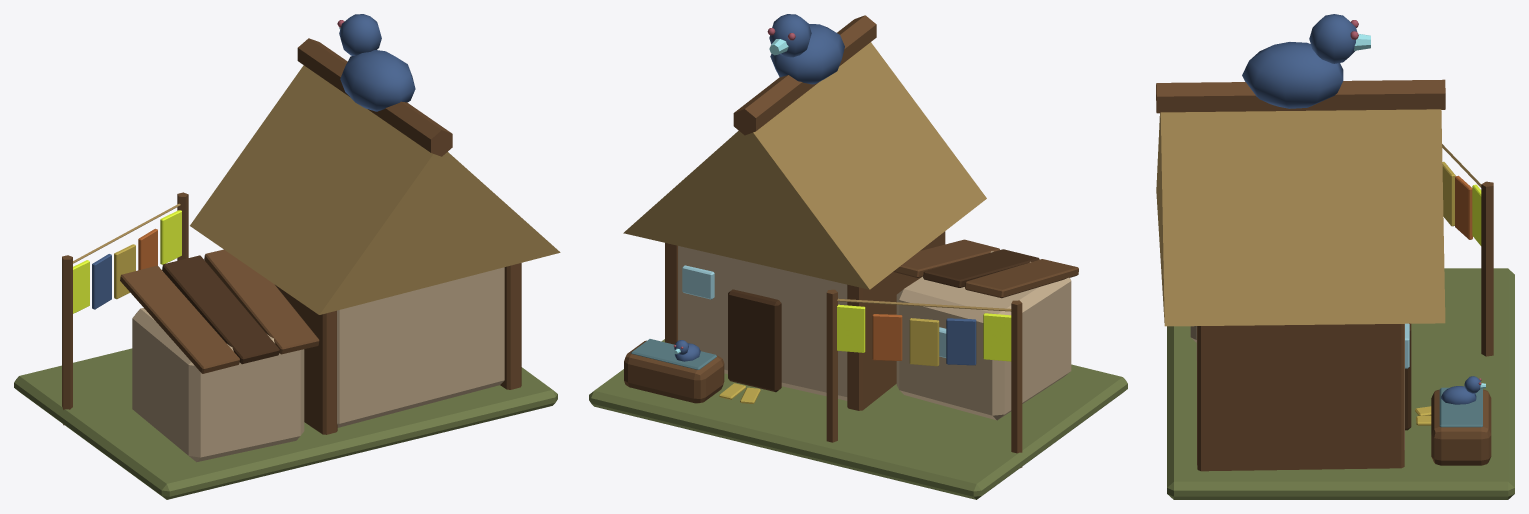
Rendered from cultist_hut_l2.fbx.
3 views of the same model, side by side, from view 1: azimuth 30°, elevation 25°; view 2: azimuth 150°, elevation 25°; view 3: azimuth 270°, elevation 25° (orthographic). The views are drawn at different scales.
Visible parts, largest first — view 1: Building; view 2: Building; view 3: Building.
Part boxes in pixels (x1,y1,x2,y2): Building: [14, 14, 560, 499]; Building: [589, 14, 1127, 499]; Building: [1156, 14, 1514, 499].
Bounding box in the file's own units: 1.55 × 1.07 × 1.38.
